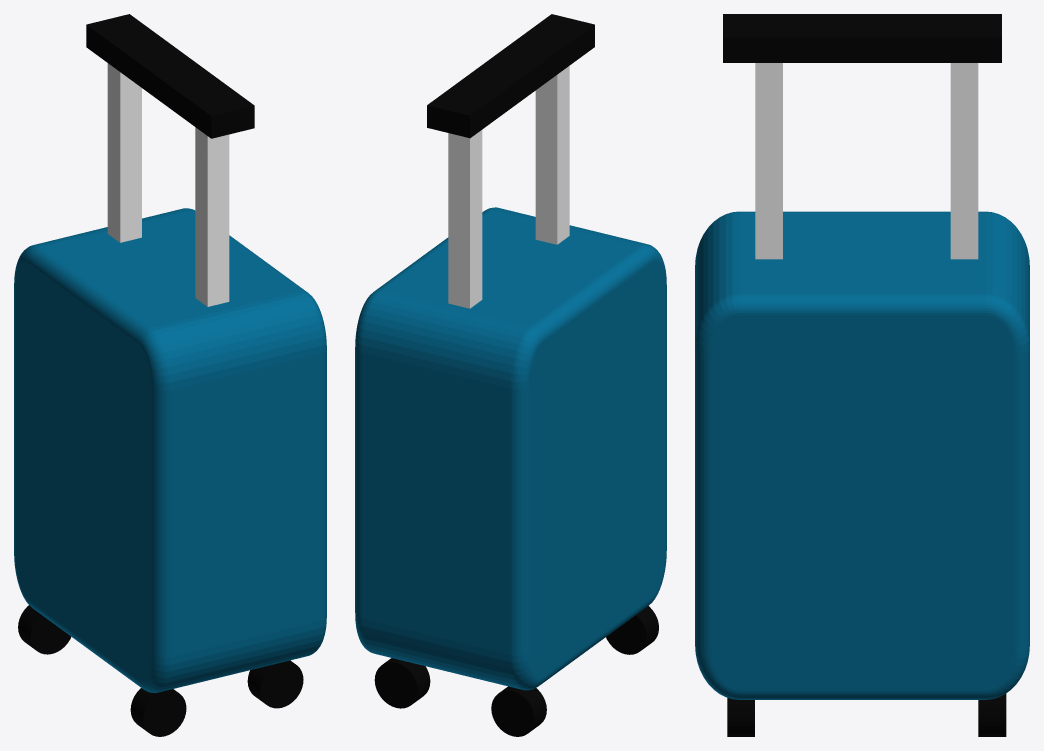
The model's file is luggage.glb.
The picture shows the model from 3 angles, left to right: view 1: azimuth 30°, elevation 25°; view 2: azimuth 150°, elevation 25°; view 3: azimuth 270°, elevation 25°; orthographic projection. The views are drawn at different scales.
Visible parts, largest first — view 1: Case, Cube, Cube.001, Wheels; view 2: Case, Cube, Cube.001, Wheels; view 3: Case, Cube.001, Cube, Wheels.
Part boxes in pixels (bbox=[...]): Case: bbox=[14, 208, 326, 692]; Cube: bbox=[107, 63, 229, 306]; Cube.001: bbox=[86, 14, 254, 138]; Wheels: bbox=[18, 605, 303, 736]; Case: bbox=[355, 207, 666, 690]; Cube: bbox=[448, 66, 569, 308]; Cube.001: bbox=[427, 14, 594, 138]; Wheels: bbox=[374, 606, 658, 736]; Case: bbox=[695, 211, 1029, 699]; Cube.001: bbox=[723, 14, 1001, 62]; Cube: bbox=[755, 63, 978, 259]; Wheels: bbox=[727, 694, 1006, 736].
Size of the model in its own units: 4.03 by 13.46 by 6.
